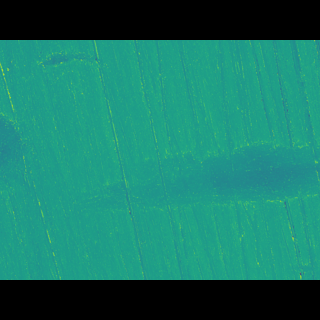Loch: (72, 140, 320, 202)
